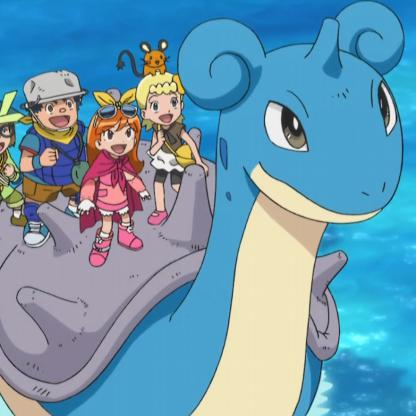Lapras: (199, 18, 416, 416)
